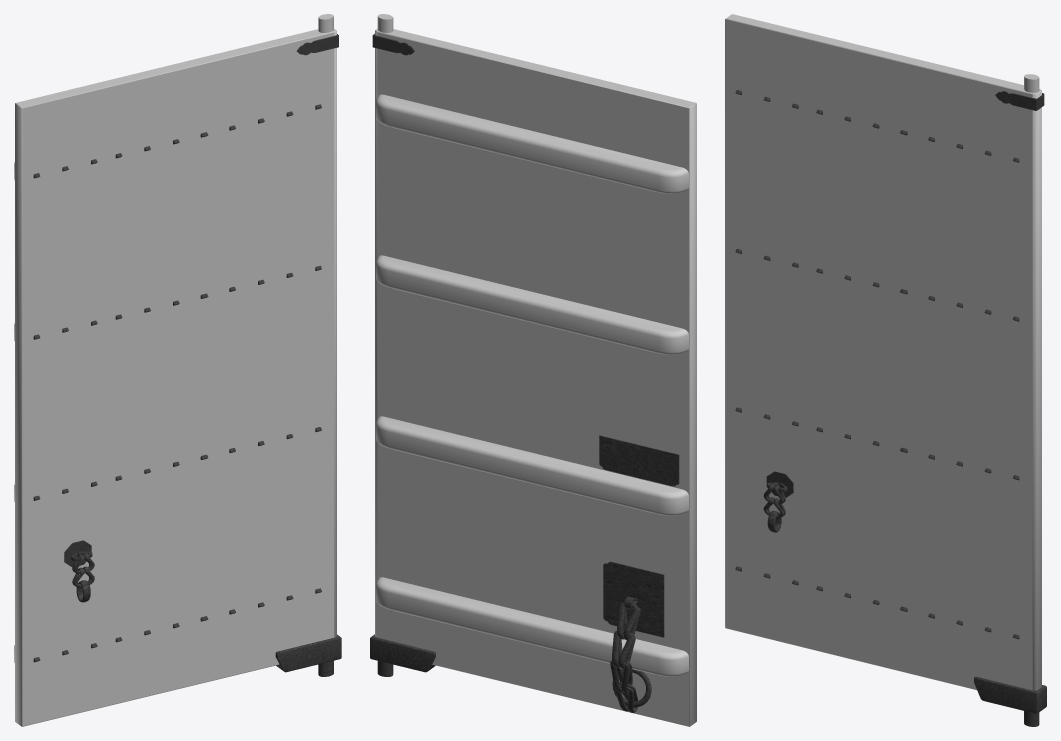
Rendered from SM_SJJ_HG_Door03B_02.fbx.
3 views of the same model, side by side, from view 1: azimuth 30°, elevation 25°; view 2: azimuth 150°, elevation 25°; view 3: azimuth 330°, elevation 25° (orthographic).
Visible parts, largest first — view 1: SM_SJJ_HG_Door03B_02; view 2: SM_SJJ_HG_Door03B_02; view 3: SM_SJJ_HG_Door03B_02.
Part boxes in pixels (x1,y1,x2,y2): SM_SJJ_HG_Door03B_02: [14, 14, 341, 726]; SM_SJJ_HG_Door03B_02: [370, 14, 696, 726]; SM_SJJ_HG_Door03B_02: [725, 14, 1046, 726].
Size of the model in its own units: 151 by 27.82 by 298.
